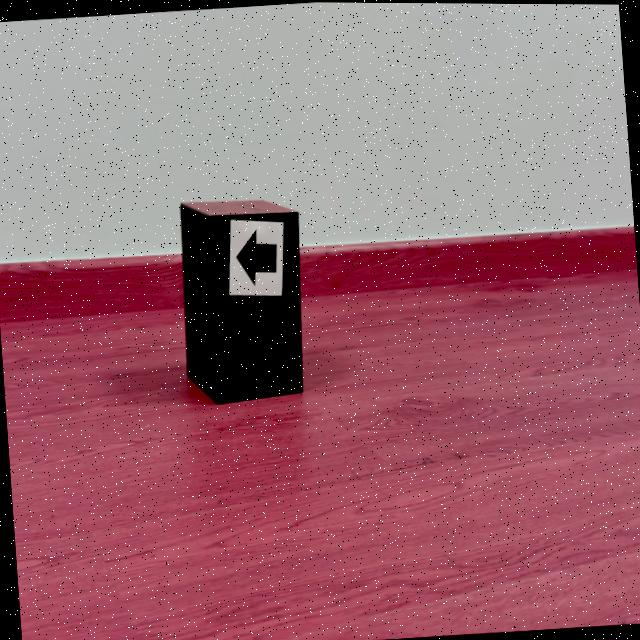LEFT: (236, 229, 277, 284)
